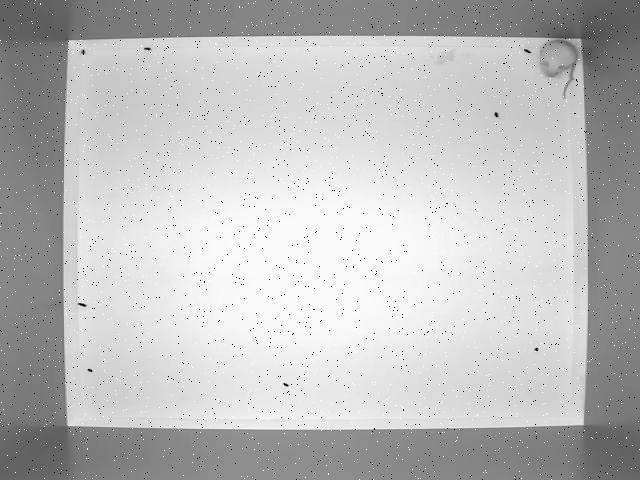Tikus: (537, 39, 581, 101)
